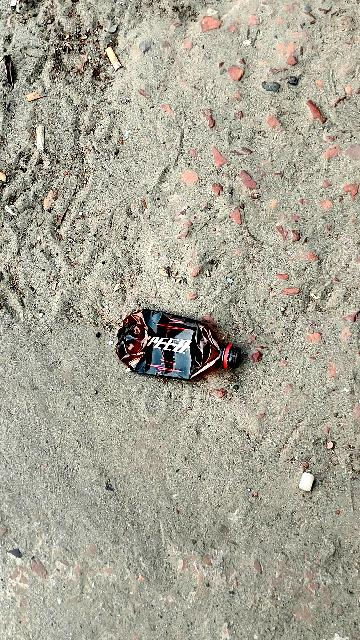polythene: (115, 302, 234, 385)
